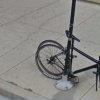Bicycle: (32, 28, 99, 96)
